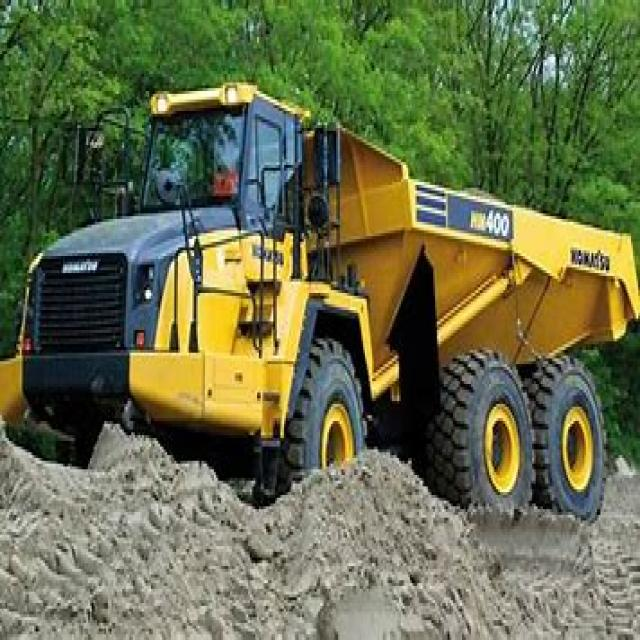dump_truck: (7, 69, 638, 544)
